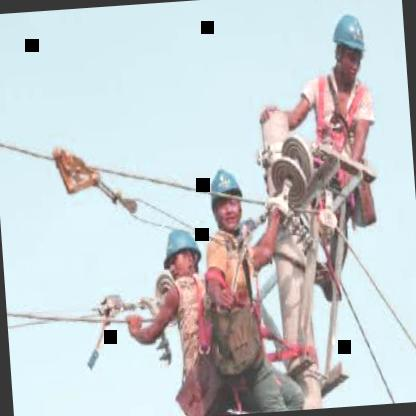helmet: (325, 5, 371, 88), (206, 160, 248, 233), (160, 225, 206, 291)
